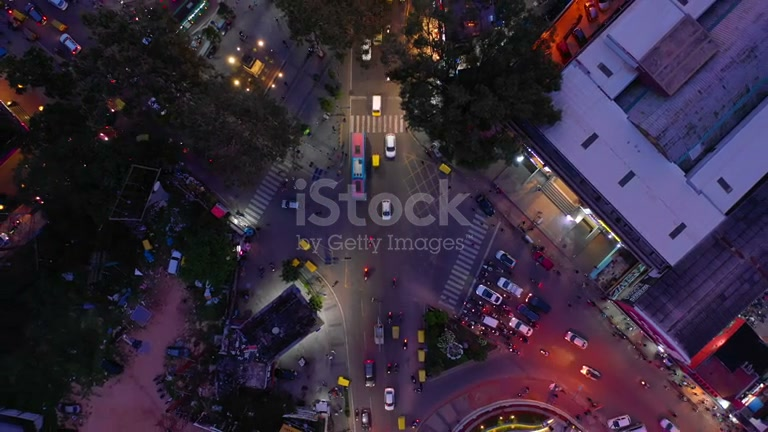car: (607, 414, 647, 432), (564, 329, 588, 349)
